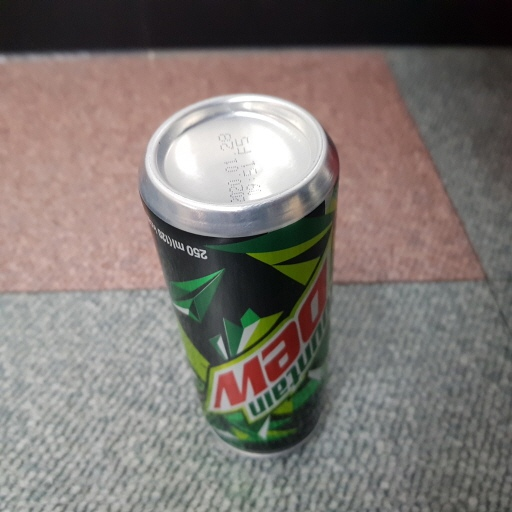Metal_0: (139, 92, 342, 460)
